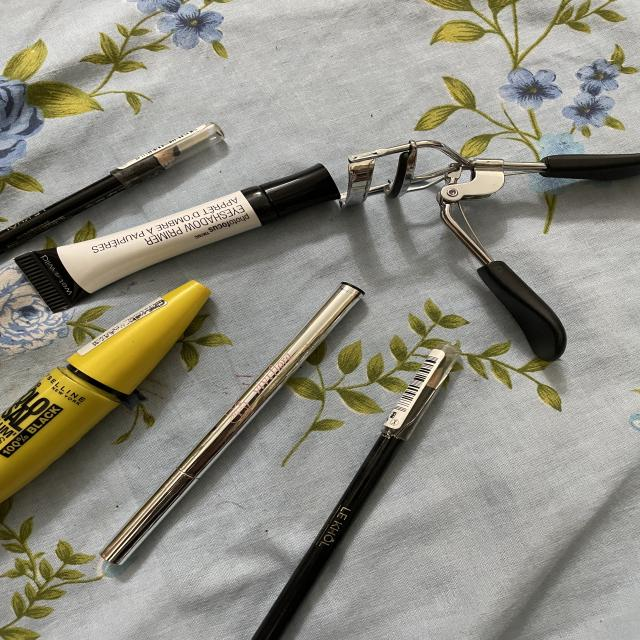eye liner: (244, 278, 470, 564), (58, 104, 242, 198)
eyelash curler: (343, 136, 640, 370)
mascara: (0, 275, 225, 498)
primer: (114, 159, 342, 279)
